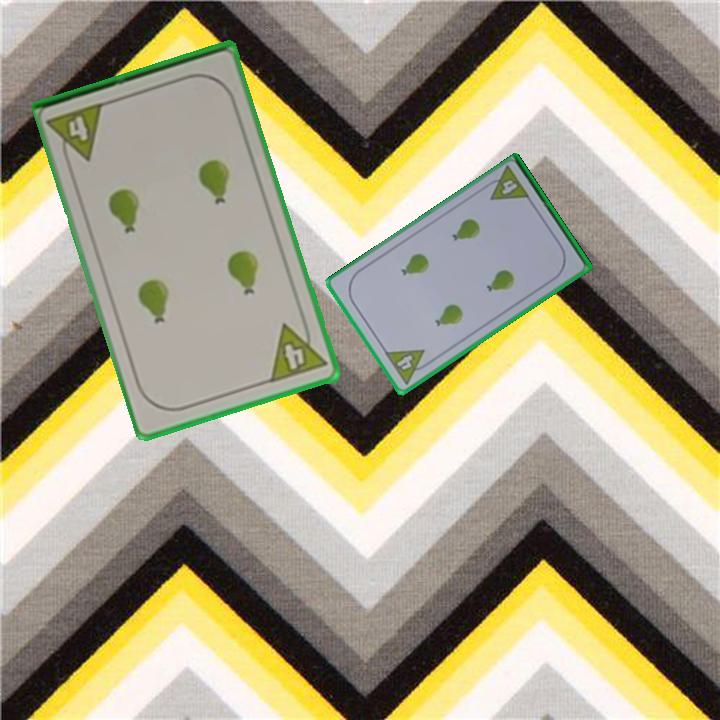4p: (266, 314, 330, 386), (45, 98, 108, 169), (381, 346, 435, 388), (480, 163, 533, 204)
